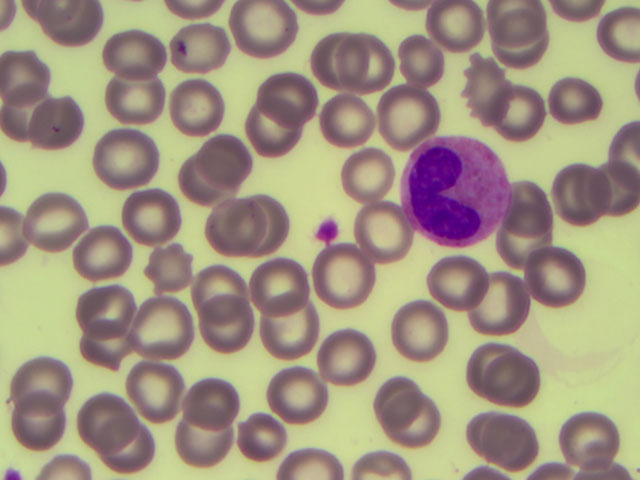Platelets: (314, 216, 342, 245)
RBC: (103, 23, 164, 83), (159, 15, 220, 75), (173, 76, 234, 136), (106, 72, 167, 132), (96, 126, 157, 186), (27, 96, 88, 156), (120, 185, 181, 245), (139, 232, 200, 292), (186, 259, 247, 319), (198, 294, 259, 354), (253, 252, 314, 312), (257, 290, 318, 350), (310, 247, 371, 307), (354, 201, 415, 261), (334, 142, 395, 202), (313, 90, 374, 150), (377, 83, 438, 143), (389, 34, 450, 94), (348, 32, 409, 92), (306, 31, 367, 91), (262, 69, 323, 129), (239, 109, 300, 169), (235, 9, 296, 69), (70, 219, 131, 279), (33, 191, 94, 251), (78, 276, 139, 336), (76, 317, 137, 377), (124, 294, 185, 354), (129, 351, 190, 411), (82, 383, 143, 443), (98, 414, 159, 474), (11, 391, 72, 451), (19, 351, 80, 411), (236, 403, 297, 463), (173, 366, 234, 426), (174, 406, 235, 466), (270, 364, 331, 424), (308, 328, 369, 388), (357, 363, 418, 423), (383, 388, 444, 448), (390, 303, 451, 363), (426, 251, 487, 311), (468, 267, 529, 327), (515, 244, 576, 304), (489, 213, 550, 273), (498, 174, 559, 234), (537, 158, 598, 218), (579, 162, 640, 222), (557, 407, 618, 467), (483, 414, 544, 474), (472, 413, 533, 473), (486, 348, 547, 408), (456, 335, 517, 395), (547, 67, 608, 127), (498, 80, 559, 140), (456, 59, 517, 119), (480, 23, 541, 83), (1, 92, 61, 152), (1, 47, 61, 107), (434, 1, 495, 60)
WBC: (405, 132, 511, 248)
